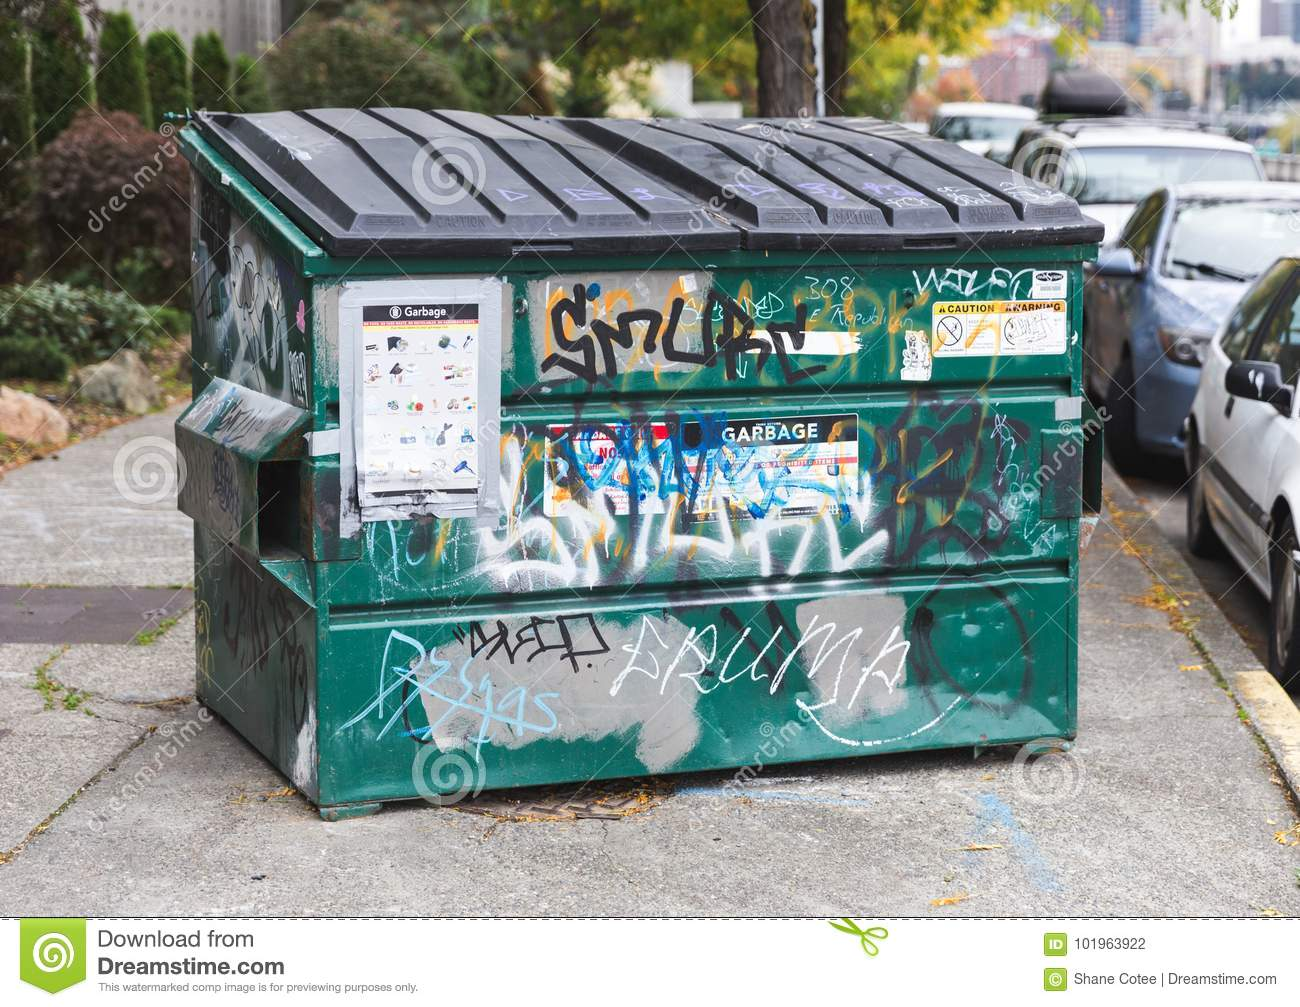Dumpster: (145, 93, 1131, 826)
